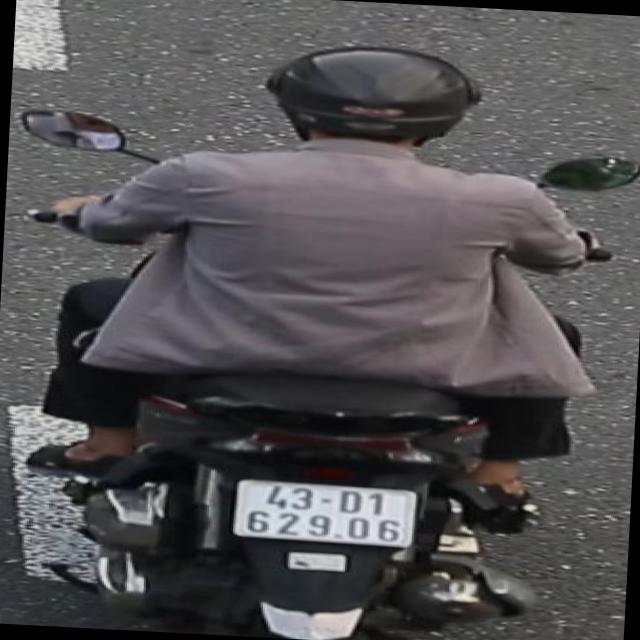LP: (229, 472, 426, 552)
helmet: (254, 37, 486, 177)
